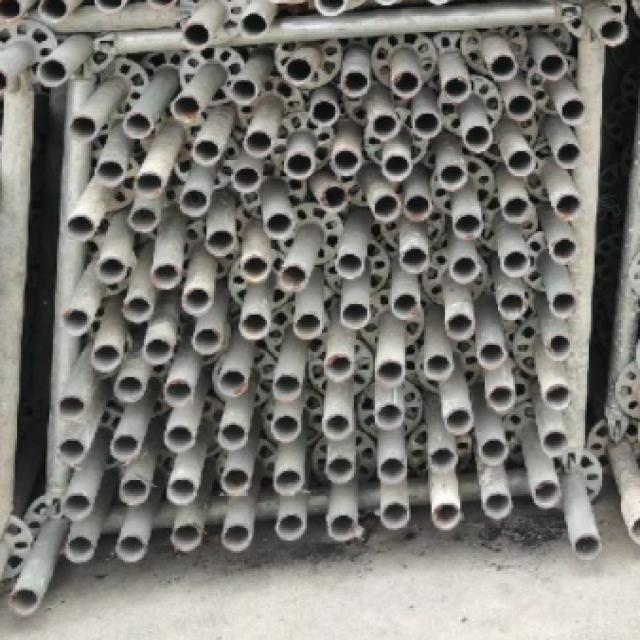pipe: (98, 521, 160, 584), (42, 526, 113, 579), (260, 502, 324, 556), (156, 509, 211, 570), (177, 313, 238, 367), (78, 333, 140, 386), (370, 276, 427, 333), (525, 35, 585, 89), (100, 361, 158, 416), (108, 280, 169, 332), (328, 288, 383, 345), (561, 518, 615, 576), (469, 478, 522, 537), (229, 299, 285, 354), (410, 342, 468, 395), (263, 454, 321, 507), (267, 251, 322, 306), (424, 150, 477, 207), (48, 480, 106, 532), (319, 507, 377, 559), (487, 183, 546, 234), (480, 280, 544, 327), (151, 410, 205, 465), (528, 369, 585, 421), (48, 202, 103, 255), (45, 429, 107, 476), (319, 133, 371, 189), (531, 413, 582, 470), (384, 51, 434, 109), (304, 177, 364, 225), (417, 436, 477, 484), (166, 174, 221, 226), (226, 246, 285, 294), (440, 245, 493, 298), (538, 277, 592, 329), (466, 330, 522, 380), (426, 489, 473, 548), (118, 197, 178, 243), (367, 347, 419, 400), (313, 398, 365, 451), (467, 425, 517, 480), (441, 200, 491, 255), (147, 365, 202, 415), (260, 406, 311, 459), (209, 361, 263, 411), (521, 470, 582, 514), (543, 179, 595, 230), (475, 374, 526, 426), (262, 360, 313, 412), (359, 100, 410, 152), (432, 393, 482, 446), (129, 325, 182, 375), (24, 45, 79, 93), (315, 337, 363, 392), (362, 448, 422, 492), (496, 136, 547, 187), (496, 82, 545, 135), (541, 222, 585, 281), (85, 244, 133, 298), (162, 460, 206, 518), (95, 422, 144, 474), (375, 494, 423, 547), (450, 112, 503, 160), (479, 41, 528, 92), (222, 153, 271, 204), (129, 157, 178, 208), (165, 276, 217, 324), (273, 44, 321, 96), (404, 97, 452, 149), (298, 91, 351, 138), (52, 289, 97, 344), (213, 518, 268, 563), (113, 466, 162, 516), (84, 146, 132, 197), (324, 235, 367, 291), (284, 301, 332, 351), (388, 234, 435, 285), (536, 321, 582, 373), (206, 410, 252, 462), (367, 393, 416, 441), (274, 139, 320, 190), (51, 374, 96, 426), (193, 221, 242, 268), (545, 89, 595, 135), (436, 299, 482, 349), (396, 187, 446, 233), (434, 62, 475, 118), (214, 453, 257, 506), (377, 143, 423, 192), (232, 5, 282, 50), (116, 102, 164, 148), (61, 104, 109, 150), (170, 14, 222, 56), (180, 125, 225, 173), (324, 451, 372, 496), (550, 134, 593, 183), (332, 57, 373, 108), (487, 240, 538, 280), (252, 200, 298, 244), (140, 250, 180, 300), (236, 118, 277, 166), (167, 90, 213, 132), (221, 66, 264, 110), (365, 185, 408, 229)
